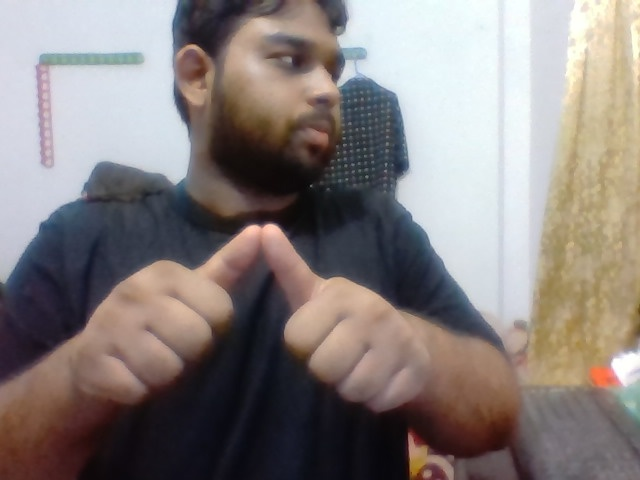A: (76, 209, 433, 432)
